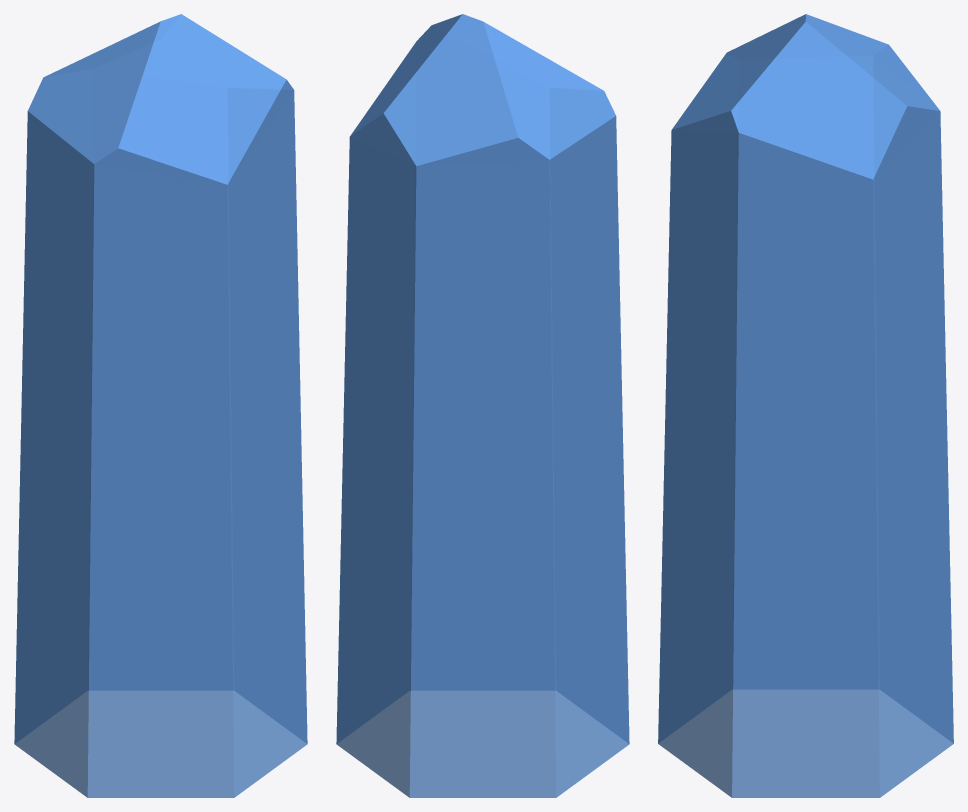
The model's file is Crystal_m_03.fbx.
3 views of the same model, side by side, from view 1: azimuth 30°, elevation 25°; view 2: azimuth 150°, elevation 25°; view 3: azimuth 270°, elevation 25° (orthographic).
Visible parts, largest first — view 1: Crystal_m_03; view 2: Crystal_m_03; view 3: Crystal_m_03.
Boxes of the visible parts, left/top/right/bottom form: Crystal_m_03: left=14, top=14, right=307, bottom=797; Crystal_m_03: left=336, top=14, right=629, bottom=797; Crystal_m_03: left=658, top=14, right=953, bottom=797.
Size of the model in its own units: 41.61 by 131 by 48.05.
